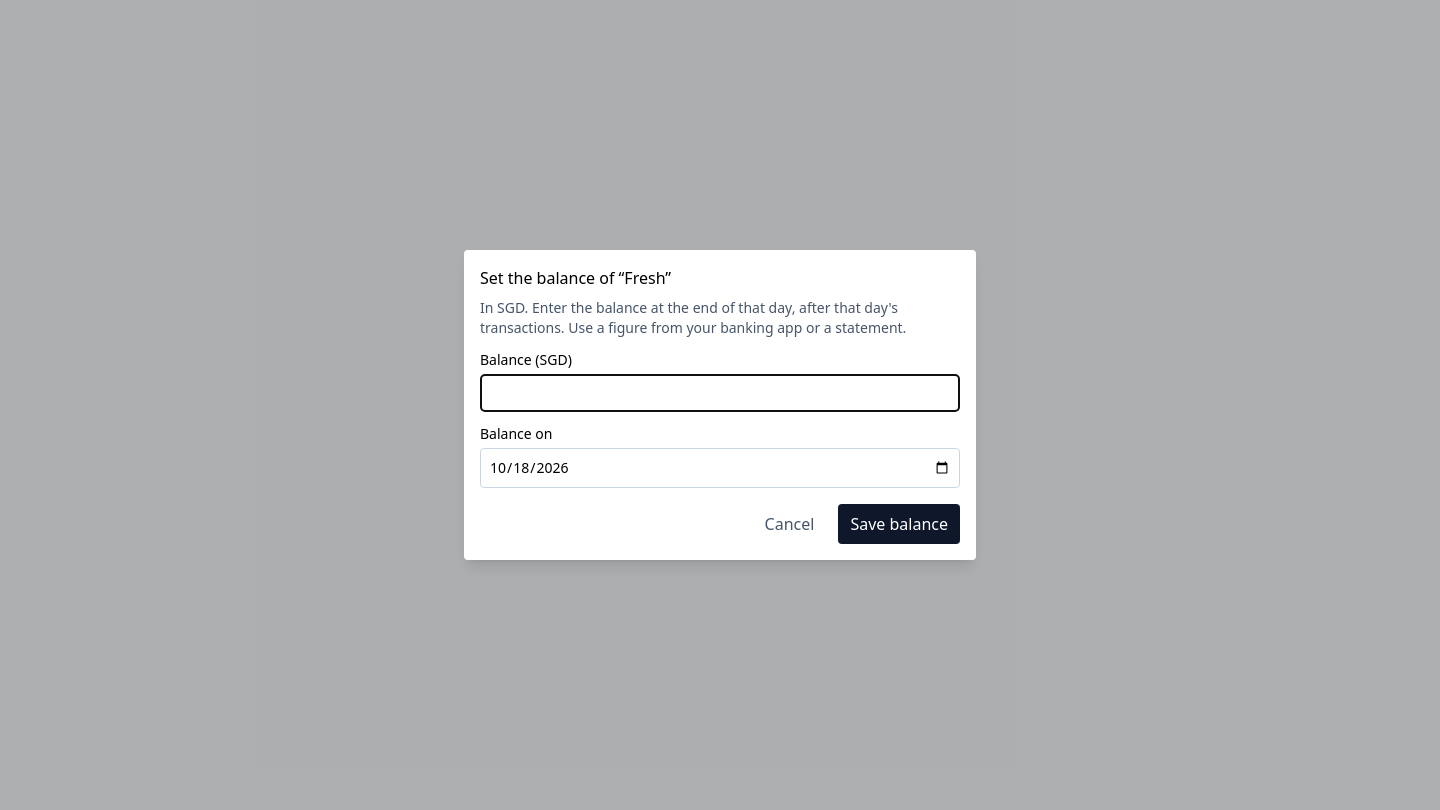
BalanceDialog: nothing is sent while what was typed is wrong › a balance of abc is refused with its reason
Type "abc" into the field with test id "balance-input".
click(720, 393); type("abc")  # box [480,374,960,412]
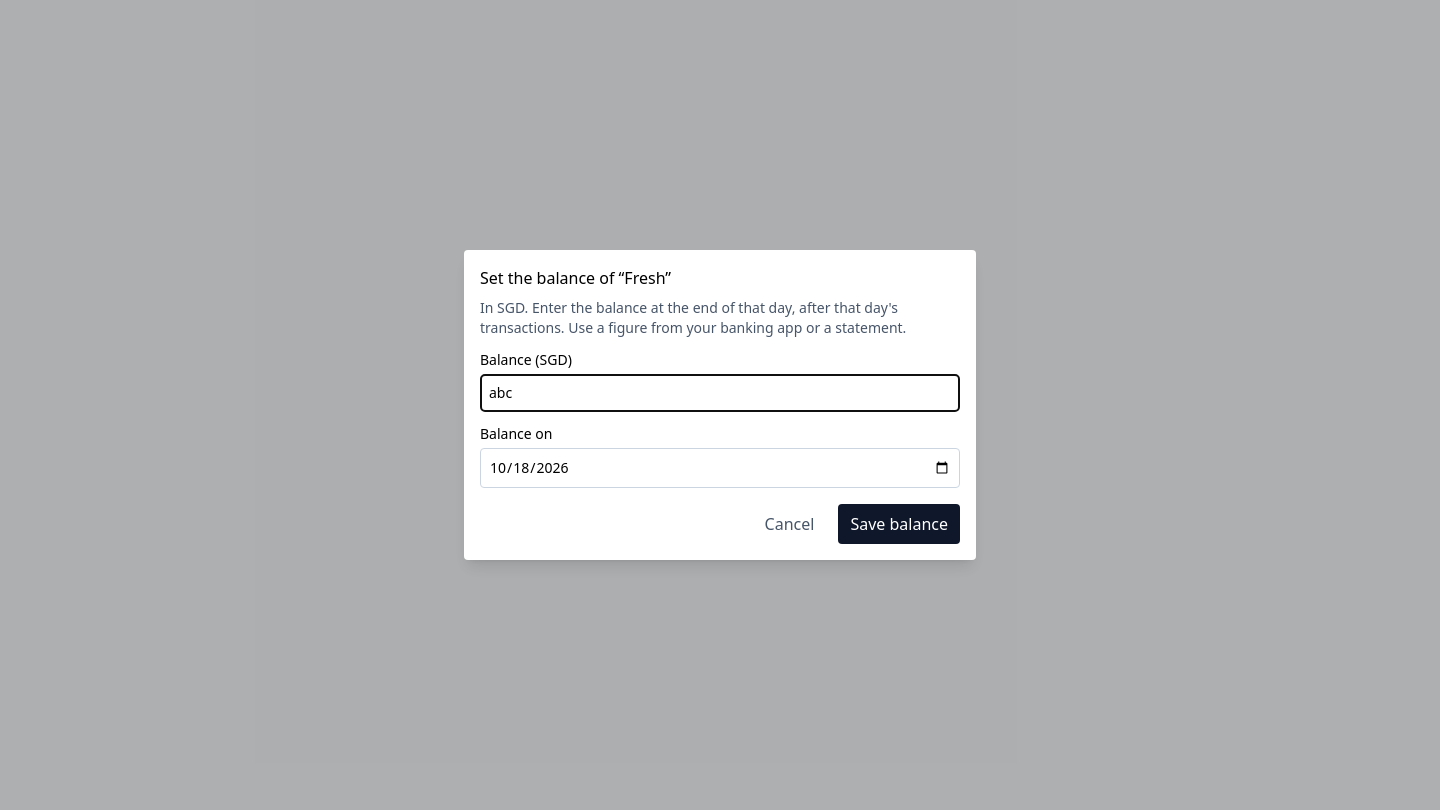
Click the button with test id "balance-save".
click(899, 524)  # box [838,504,960,544]
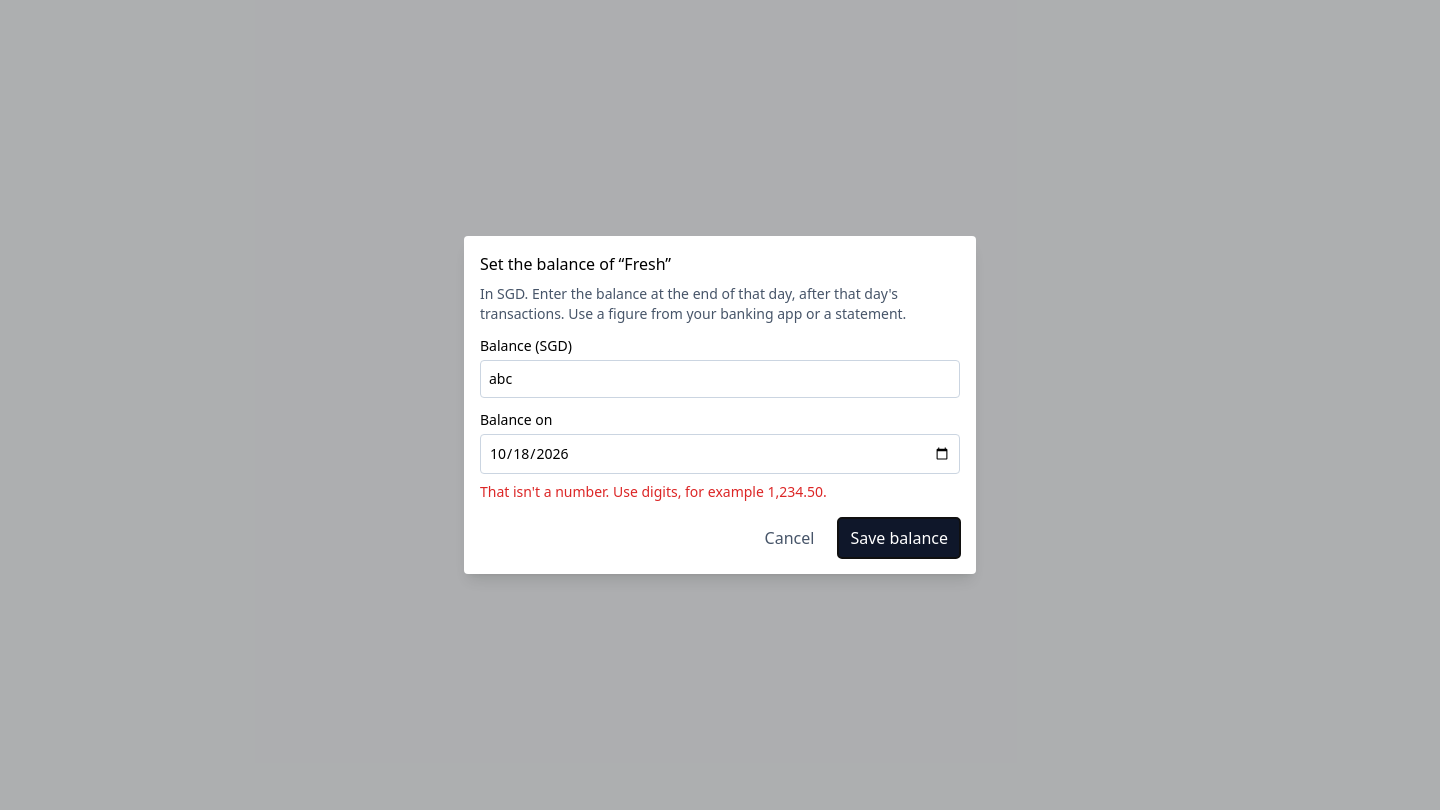
Expected: the message with test id "balance-error" reads "That isn't a number. Use digits, for example 1,234.50.", [480,482,827,501]
